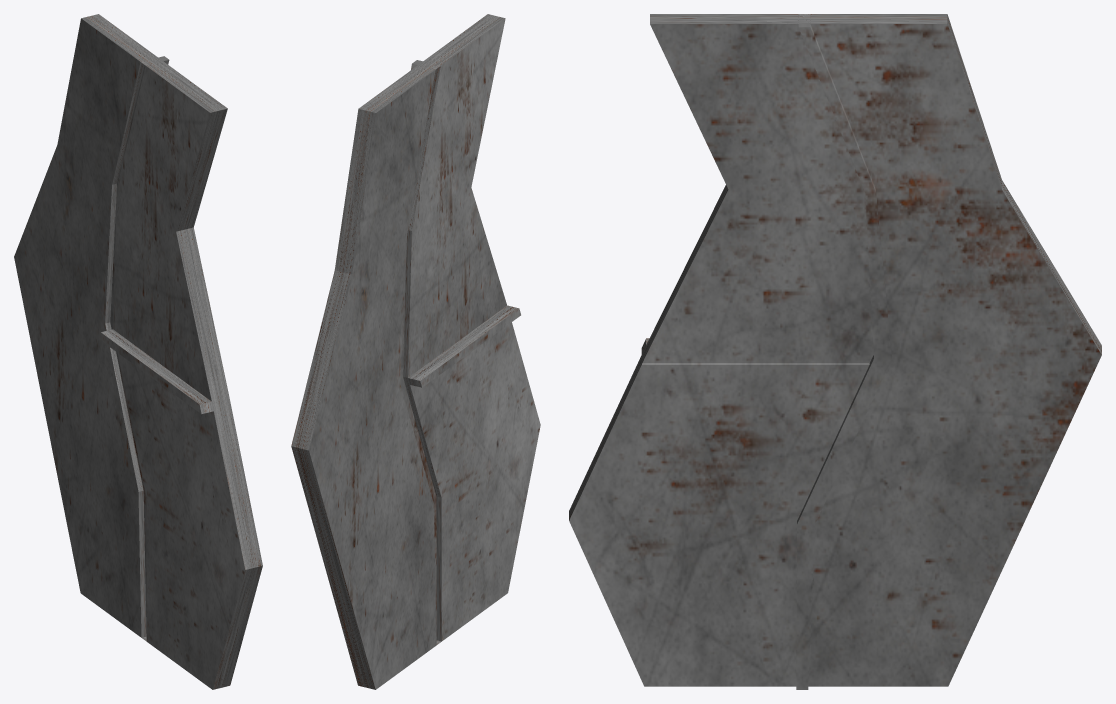
File: door2.glb
3 renders of one model, left to right at view 1: azimuth 30°, elevation 25°; view 2: azimuth 150°, elevation 25°; view 3: azimuth 270°, elevation 25°, orthographic. The views are drawn at different scales.
Parts seen in each view (by area): view 1: Cube.024; view 2: Cube.024; view 3: Cube.024.
Boxes of the visible parts, x1,y1,x2,y2 form: Cube.024: (14, 14, 262, 689); Cube.024: (291, 14, 540, 689); Cube.024: (569, 14, 1101, 689).
Size of the model in its own units: 0.3954 by 6.05 by 4.41.
1 material, 1 textured.
